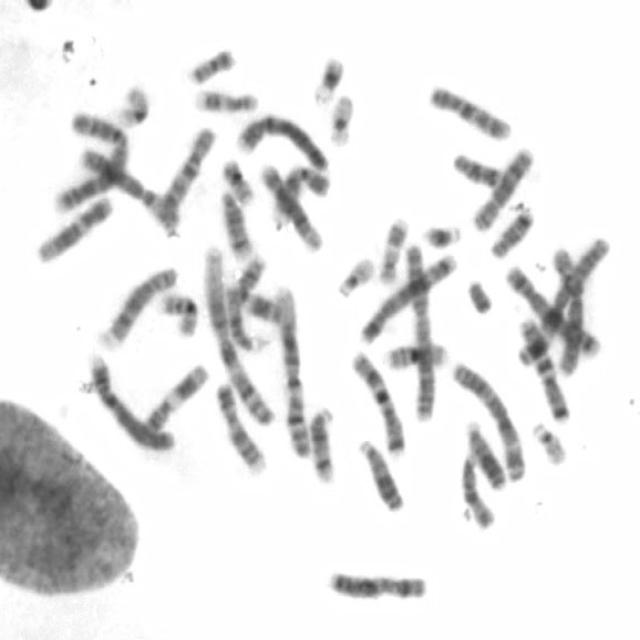A1: (197, 238, 278, 428), (269, 280, 312, 460)
A2: (46, 105, 130, 217), (398, 235, 438, 424)
A3: (513, 234, 612, 369), (448, 358, 528, 486)
B4: (82, 351, 176, 452), (232, 110, 330, 175)
B5: (499, 260, 604, 362), (354, 248, 460, 346)
C10: (155, 122, 218, 227), (424, 80, 513, 142)
C11: (138, 361, 210, 436), (225, 251, 280, 323)
C12: (254, 158, 324, 254), (32, 190, 115, 265)
C6: (76, 144, 180, 230), (550, 244, 587, 376)
C7: (346, 346, 408, 459), (515, 312, 572, 423)
C8: (92, 258, 180, 349), (467, 142, 535, 234)
C9: (210, 378, 268, 477), (267, 161, 332, 228)
D13: (353, 434, 408, 514), (461, 414, 509, 492)
D14: (304, 399, 339, 484), (217, 186, 256, 262)
D15: (221, 278, 268, 358), (458, 451, 496, 530)
E16: (380, 336, 450, 371), (156, 288, 199, 338)
E17: (374, 212, 411, 285), (190, 85, 262, 115)
E18: (486, 201, 536, 260), (448, 148, 505, 190)
F19: (324, 89, 356, 150), (110, 80, 150, 128)
F20: (186, 43, 237, 85), (218, 154, 256, 207)
G21: (308, 50, 347, 106), (418, 218, 464, 251)
G22: (527, 416, 569, 468), (334, 251, 376, 299)
X: (324, 565, 428, 602)
Y: (463, 274, 495, 316)
